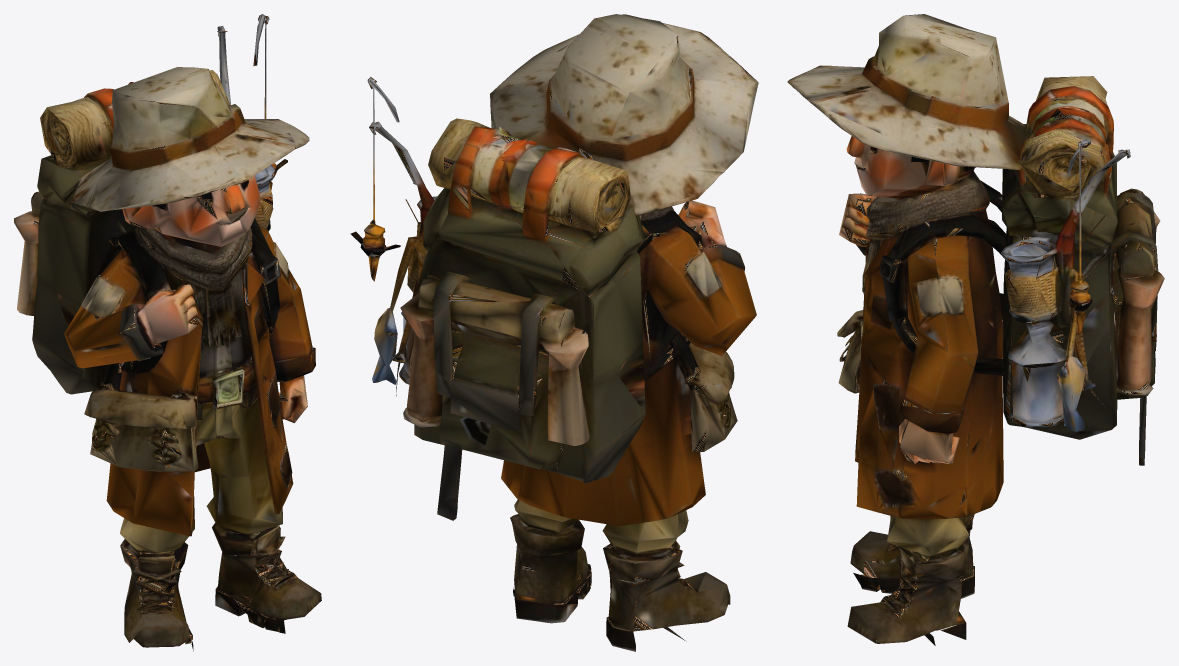
The model's file is merchant.glb.
The picture shows the model from 3 angles, left to right: view 1: azimuth 30°, elevation 25°; view 2: azimuth 150°, elevation 25°; view 3: azimuth 270°, elevation 25°; orthographic projection. The views are drawn at different scales.
Visible parts, largest first — view 1: material; view 2: material; view 3: material.
Boxes of the visible parts, left/top/right/bottom form: material: left=14, top=14, right=321, bottom=651; material: left=350, top=14, right=758, bottom=651; material: left=787, top=14, right=1164, bottom=645.
Size of the model in its own units: 0.5232 by 0.9373 by 0.5592.
Materials: 1 (1 with a texture image).
